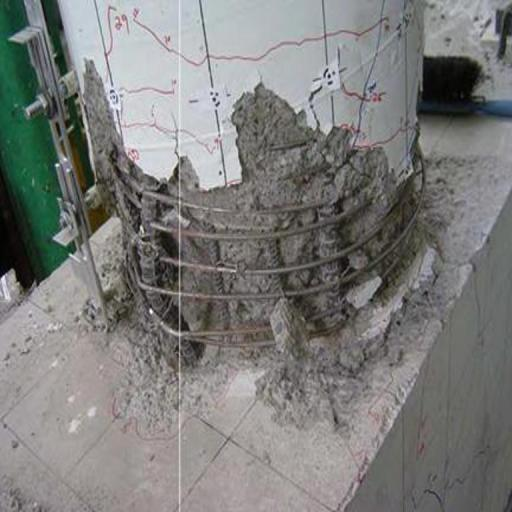spalling: (78, 97, 448, 376)
